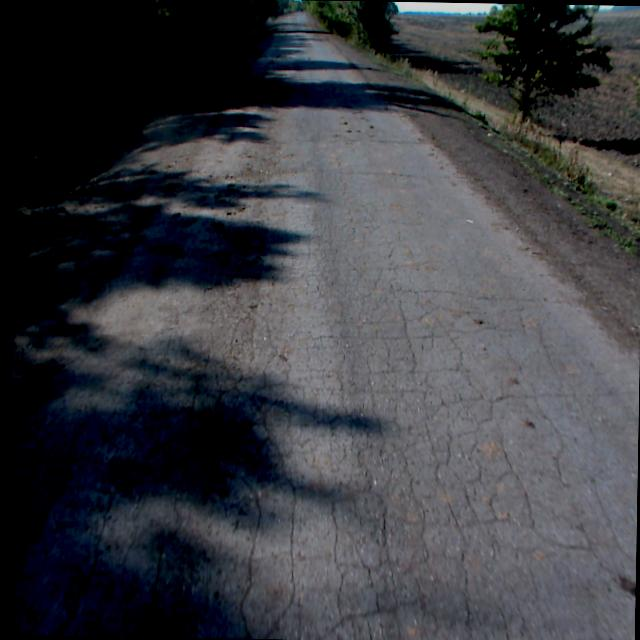road: (0, 10, 639, 640)
